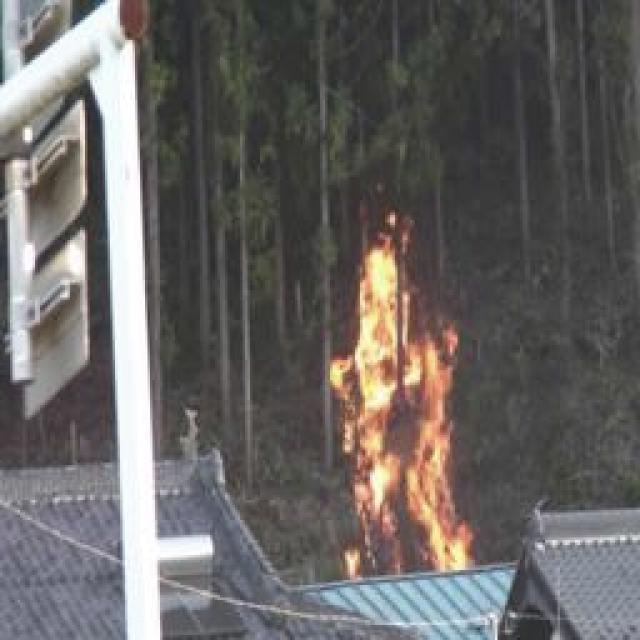Fire: (324, 230, 469, 581)
